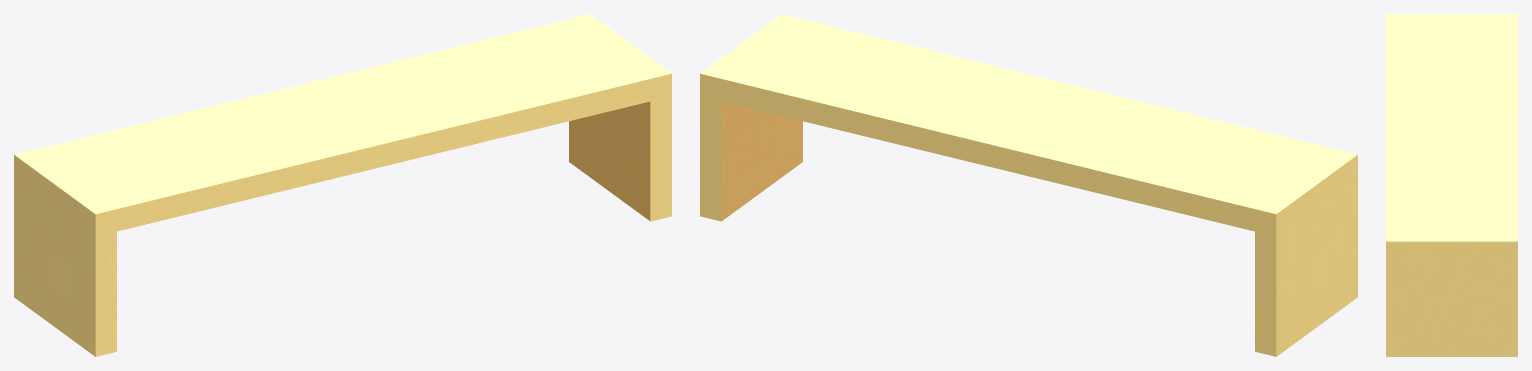
Rendered from bench.001.glb.
3 views of the same model, side by side, from view 1: azimuth 30°, elevation 25°; view 2: azimuth 150°, elevation 25°; view 3: azimuth 270°, elevation 25° (orthographic). The views are drawn at different scales.
Visible parts, largest first — view 1: bench.001(Clone); view 2: bench.001(Clone); view 3: bench.001(Clone).
Boxes of the visible parts, x1,y1,x2,y2 form: bench.001(Clone): [14, 14, 671, 356]; bench.001(Clone): [700, 14, 1357, 356]; bench.001(Clone): [1386, 14, 1517, 356].
Size of the model in its own units: 2.11 by 0.4981 by 0.5161.
1 material, 1 textured.
